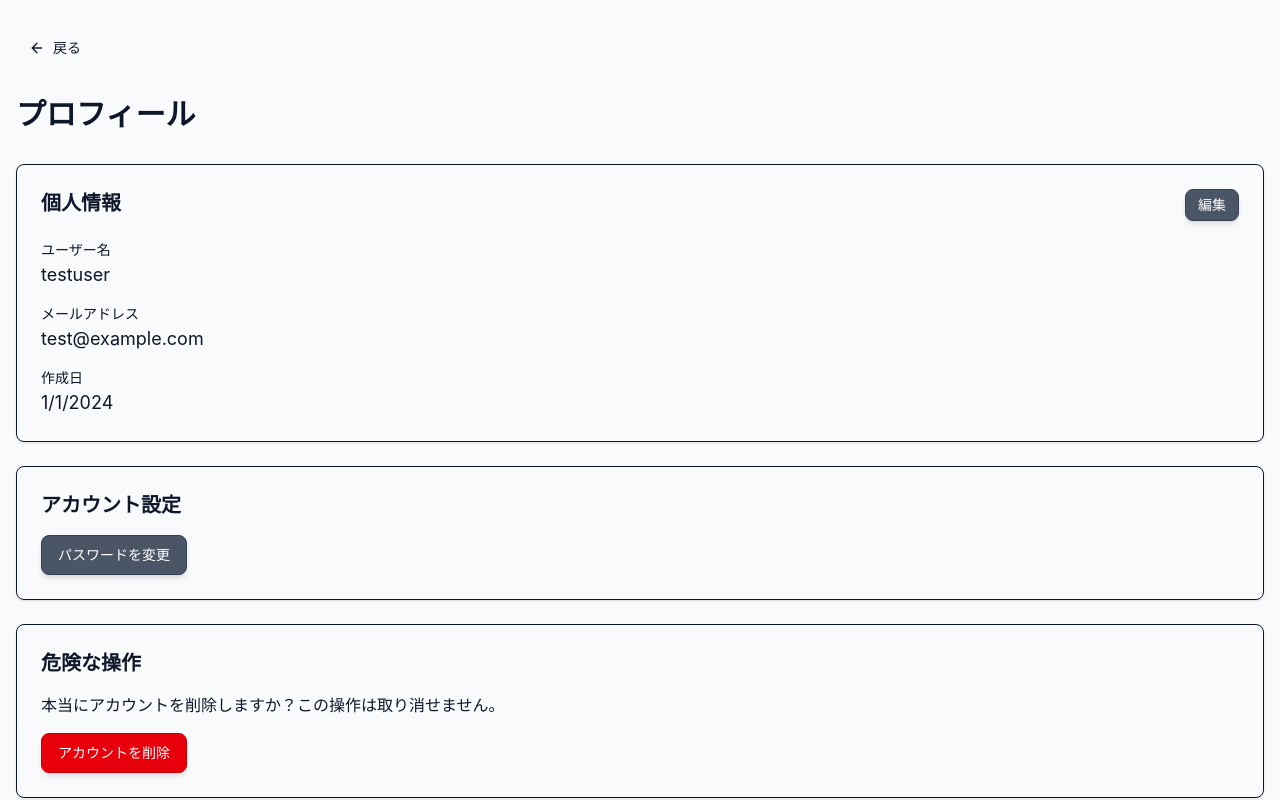
ProfilePage › validates password requirements
This screenshot has width=1280, height=800.
Click the button "パスワードを変更" at (114, 555), box top-left (41, 535), bottom-right (187, 575)
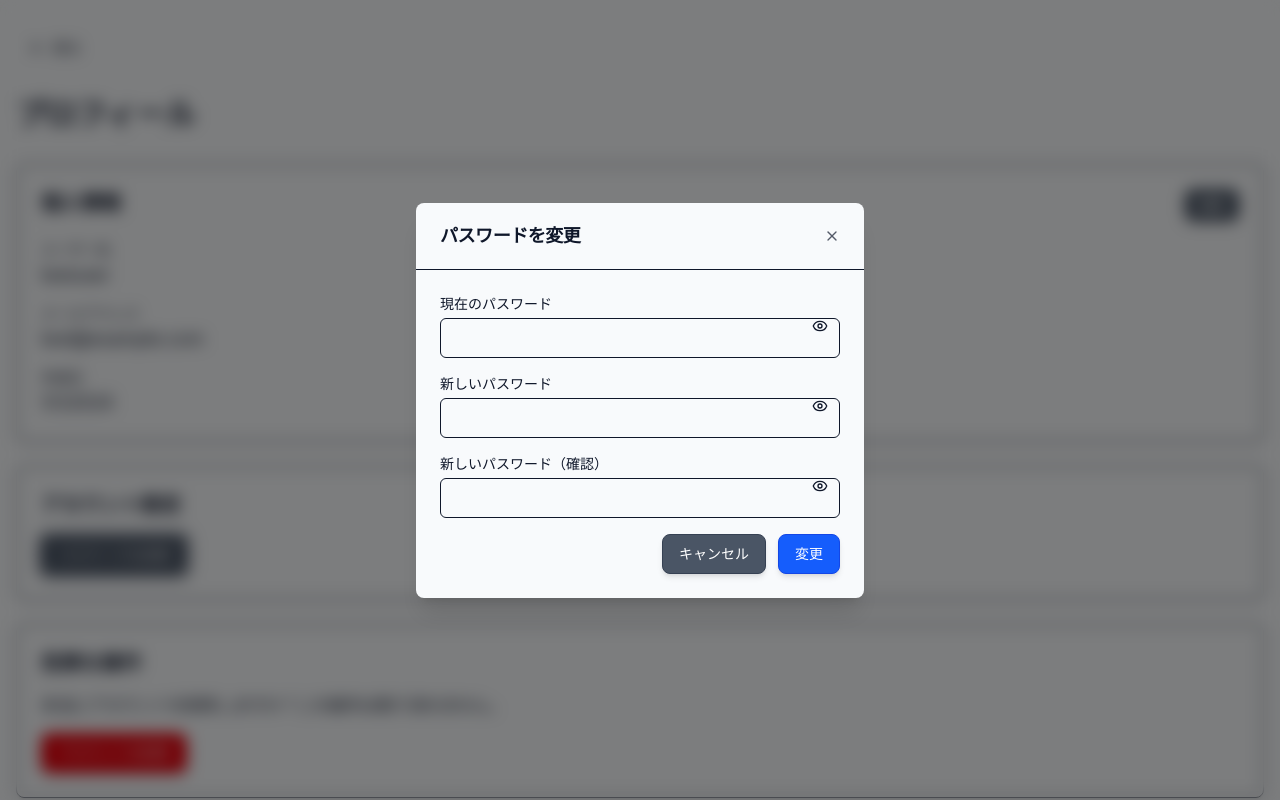
Type "current" into the password field labelled "現在のパスワード" at (640, 338), box top-left (440, 318), bottom-right (840, 358)
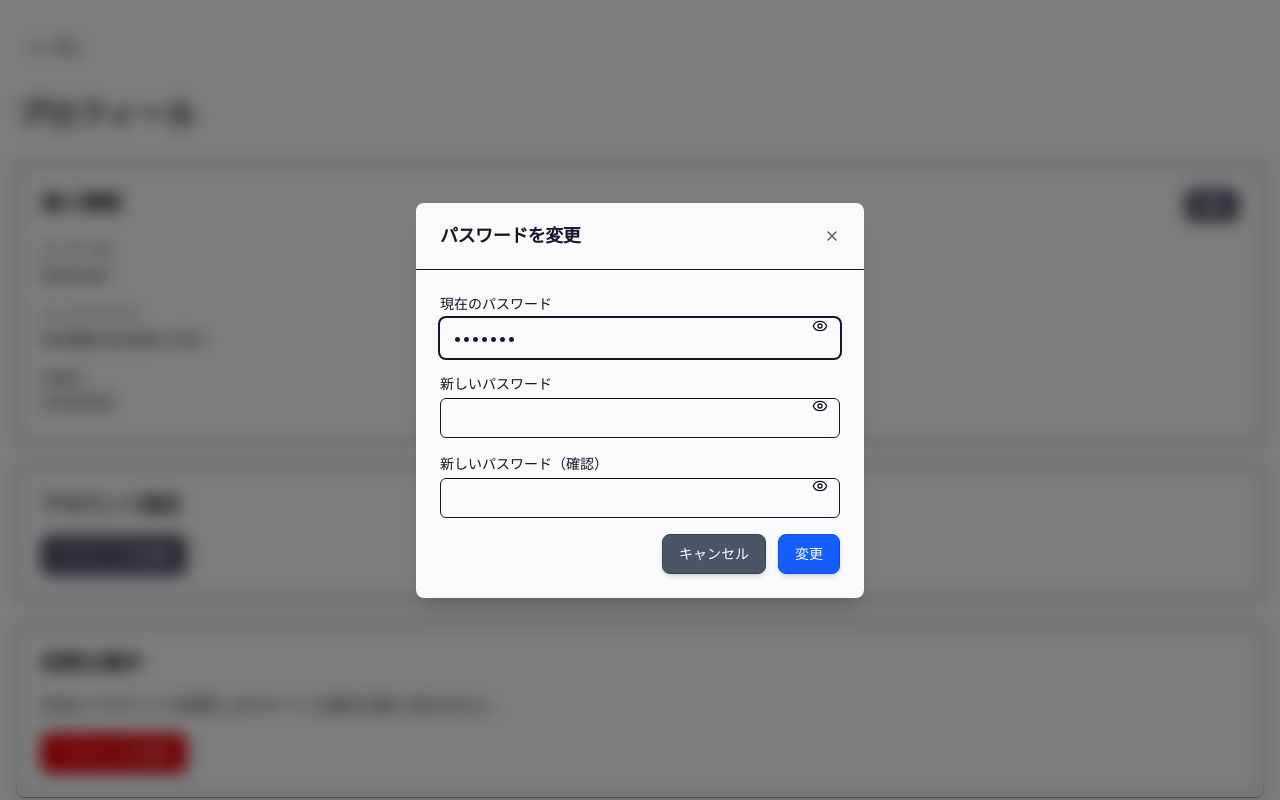
Type "weak" into the password field labelled "新しいパスワード" at (640, 418), box top-left (440, 398), bottom-right (840, 438)
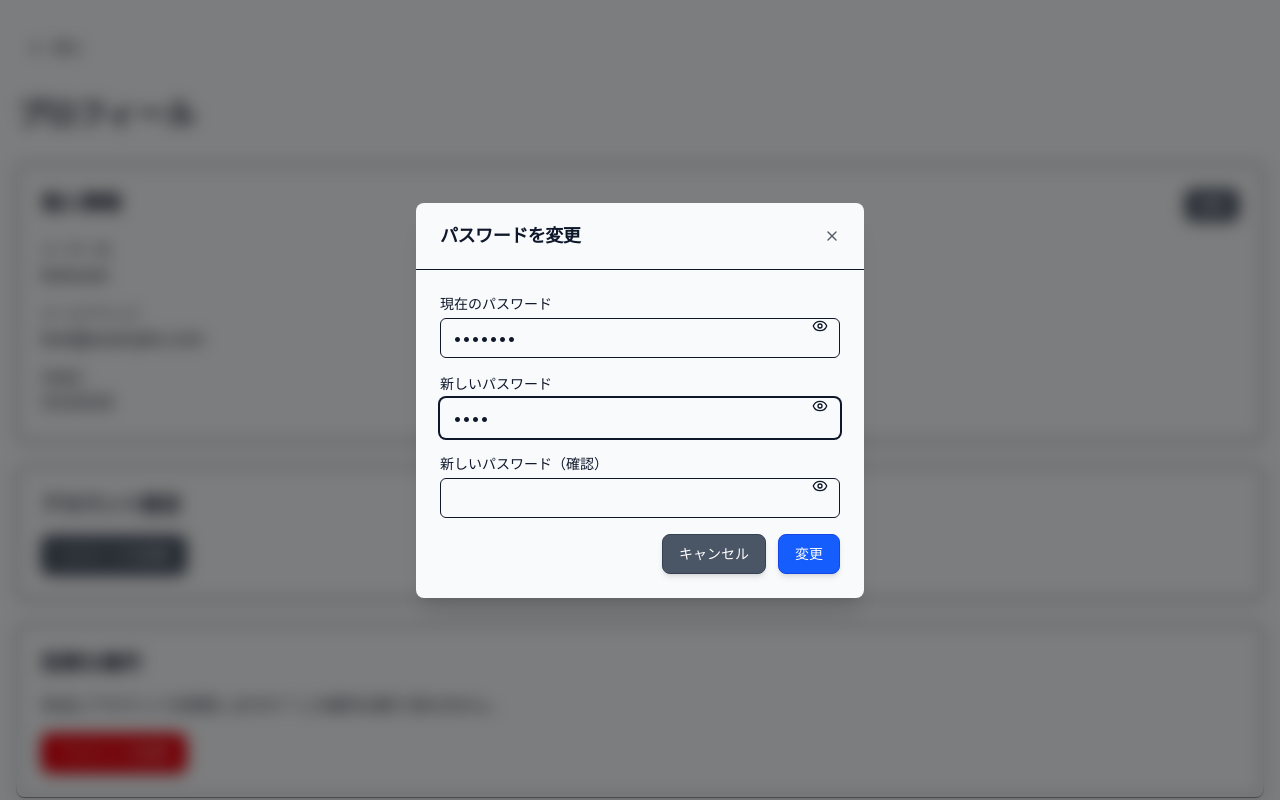
Type "weak" into the password field labelled "新しいパスワード（確認）" at (640, 498), box top-left (440, 478), bottom-right (840, 518)
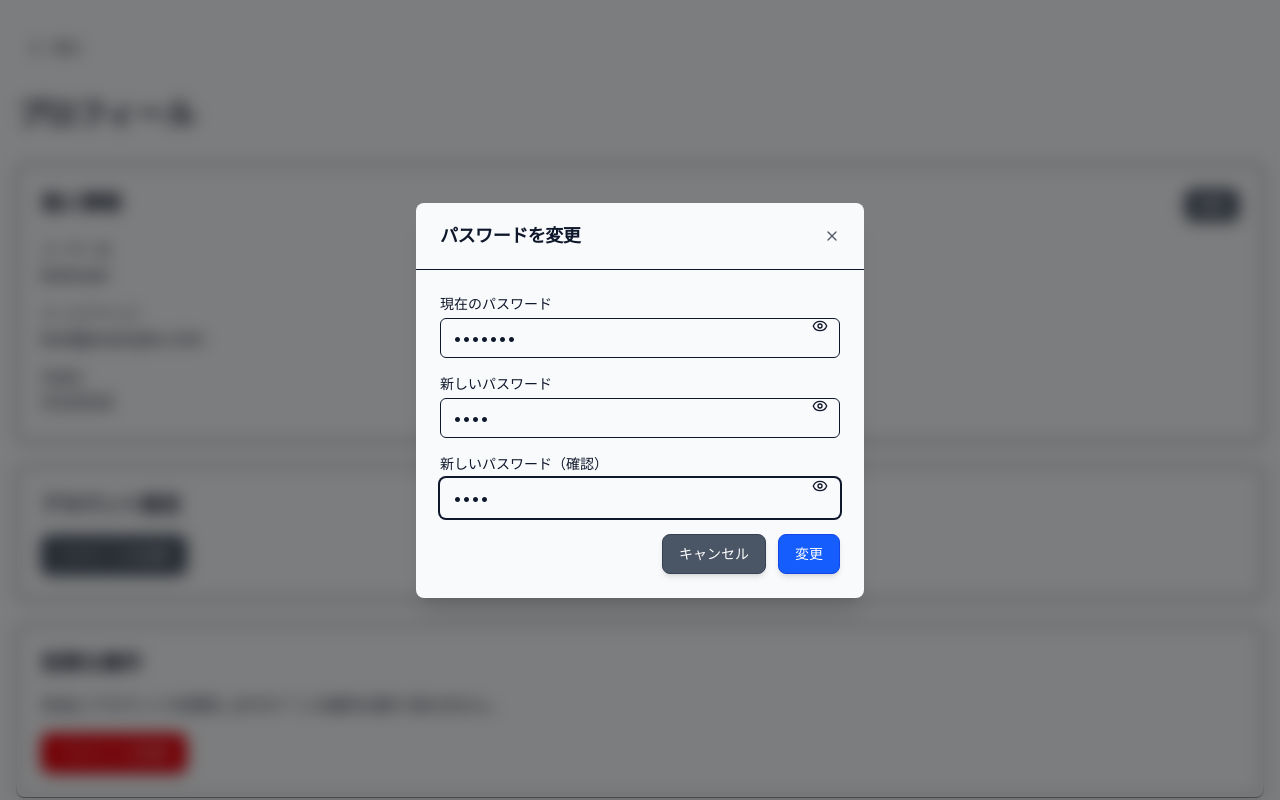
Click the button "変更" at (809, 554), box top-left (778, 534), bottom-right (840, 574)
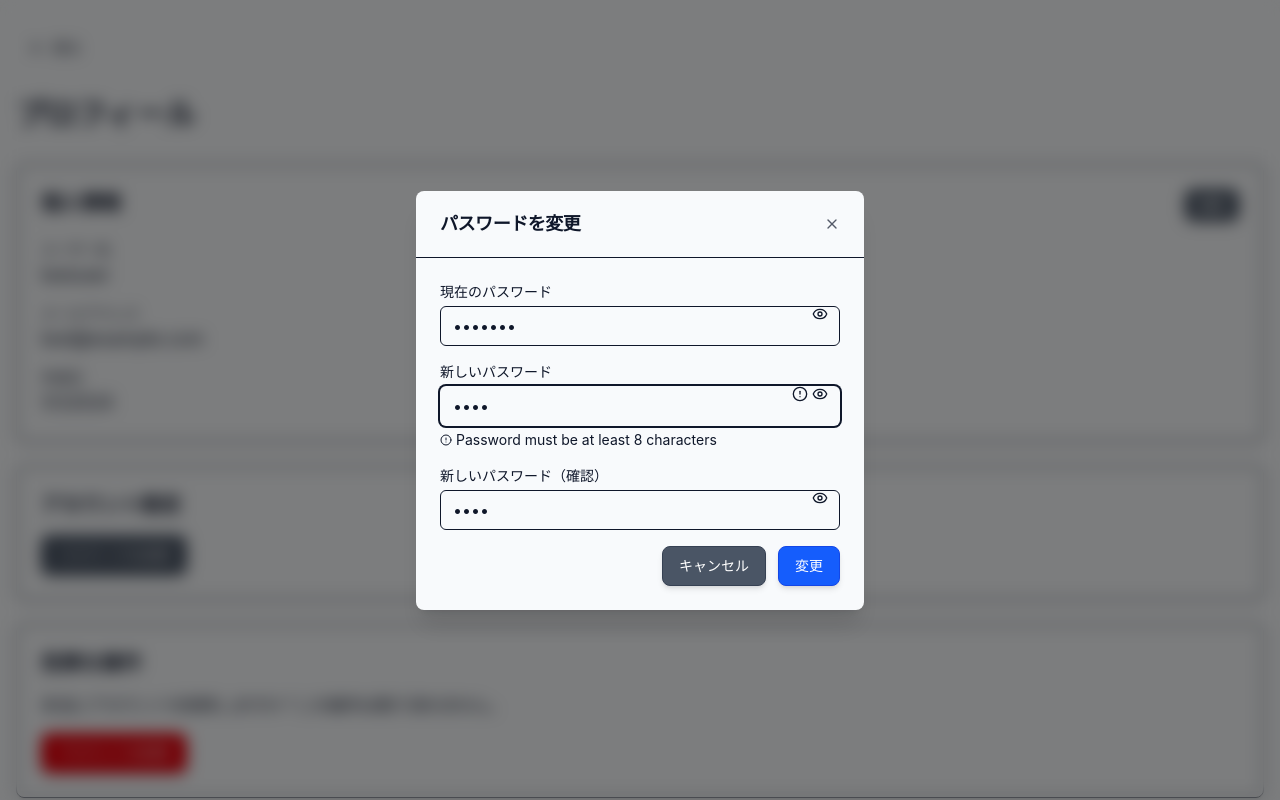
Check: the text "Password must be at least 8 characters" is shown, box top-left (440, 430), bottom-right (717, 448)
